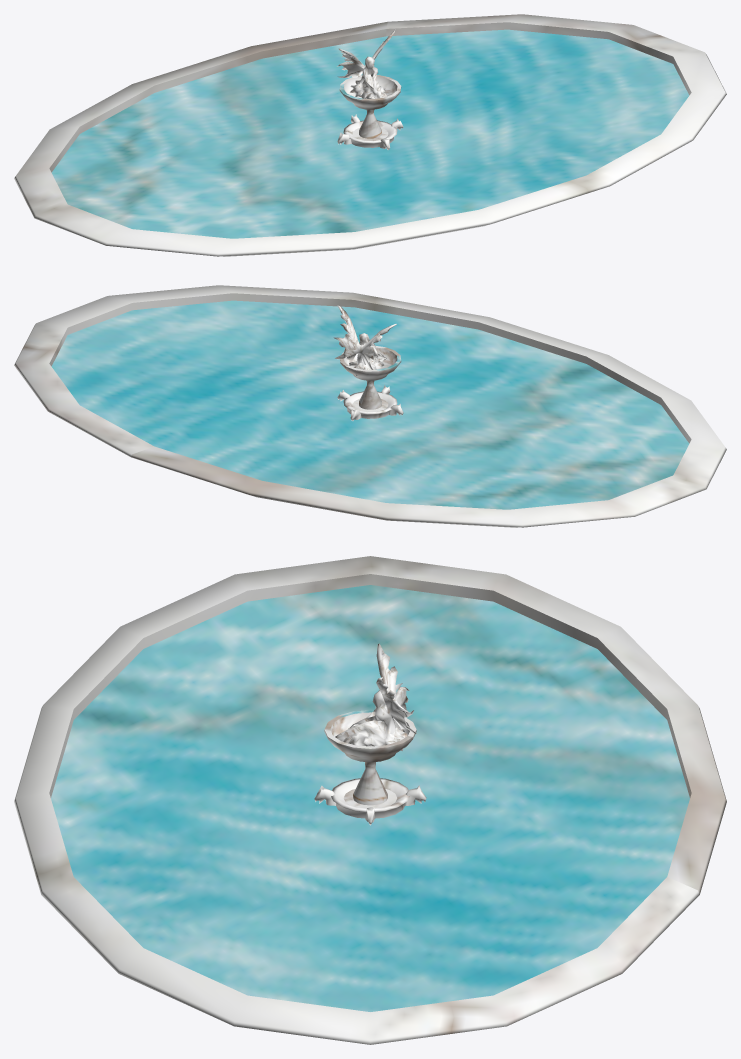
File: Fountain.fbx
The picture shows the model from 3 angles, top to bottom: view 1: azimuth 30°, elevation 25°; view 2: azimuth 150°, elevation 25°; view 3: azimuth 270°, elevation 25°; orthographic projection. The views are drawn at different scales.
Parts seen in each view (by area): view 1: fountain; view 2: fountain; view 3: fountain.
Part boxes in pixels (x1,y1,x2,y2): fountain: (14, 14, 726, 256); fountain: (14, 285, 726, 527); fountain: (14, 556, 726, 1044).
Bounding box in the file's own units: 6292 × 939 × 3898.
1 material, 1 textured.
